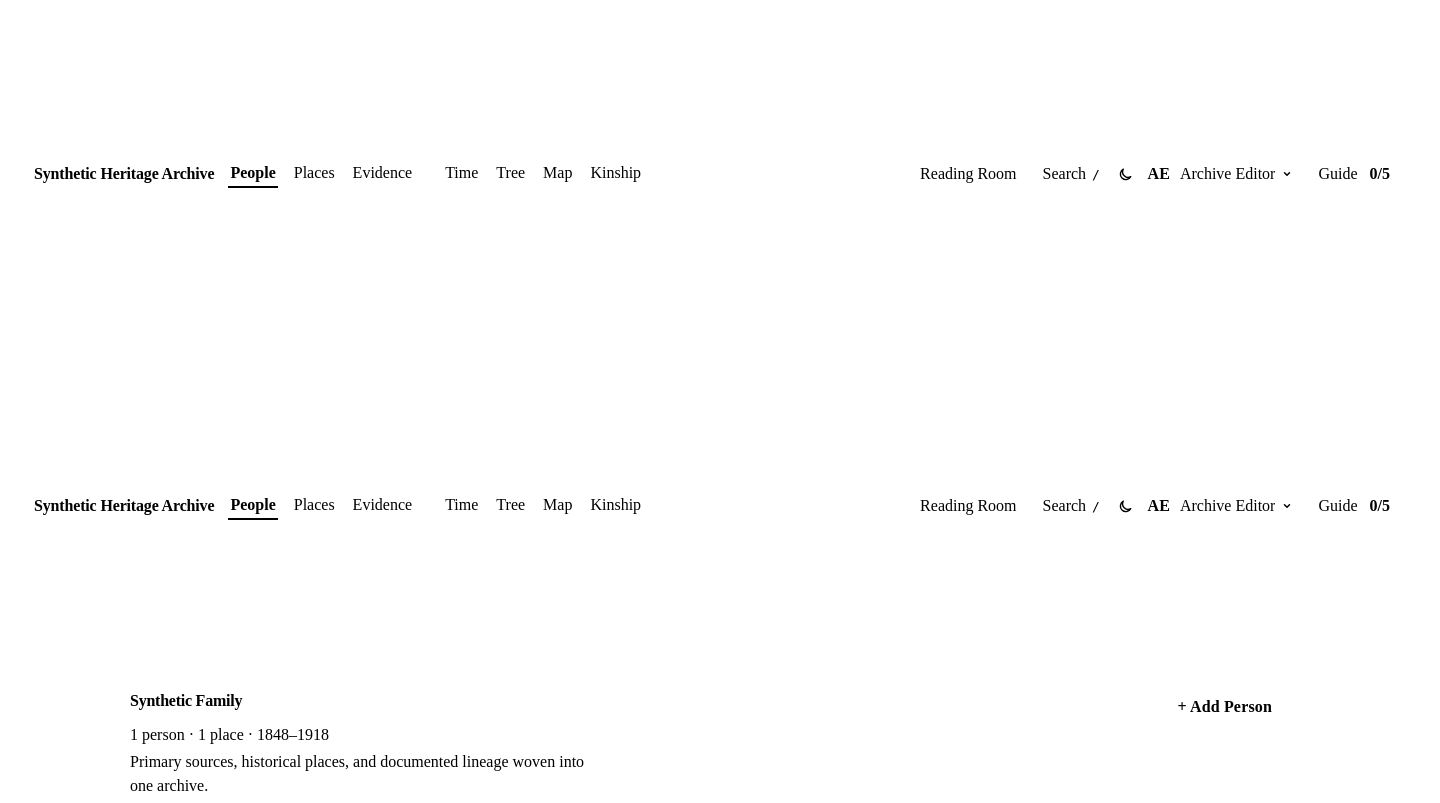
Test: OnboardingChecklistCard, Guide menu, persistence, and contextual empty states › delegates Guide open to a #53 registered tutorial launcher and syncs authenticated user progress via ArchiveDataSource
The image size is (1440, 803).
Later steps or results of the test are not shown.
Expected: the text "Make your first archival contribution" is not shown
Click the 1st button "Guide 0/5": (1357, 174) x1=1308 y1=165 x2=1406 y2=183
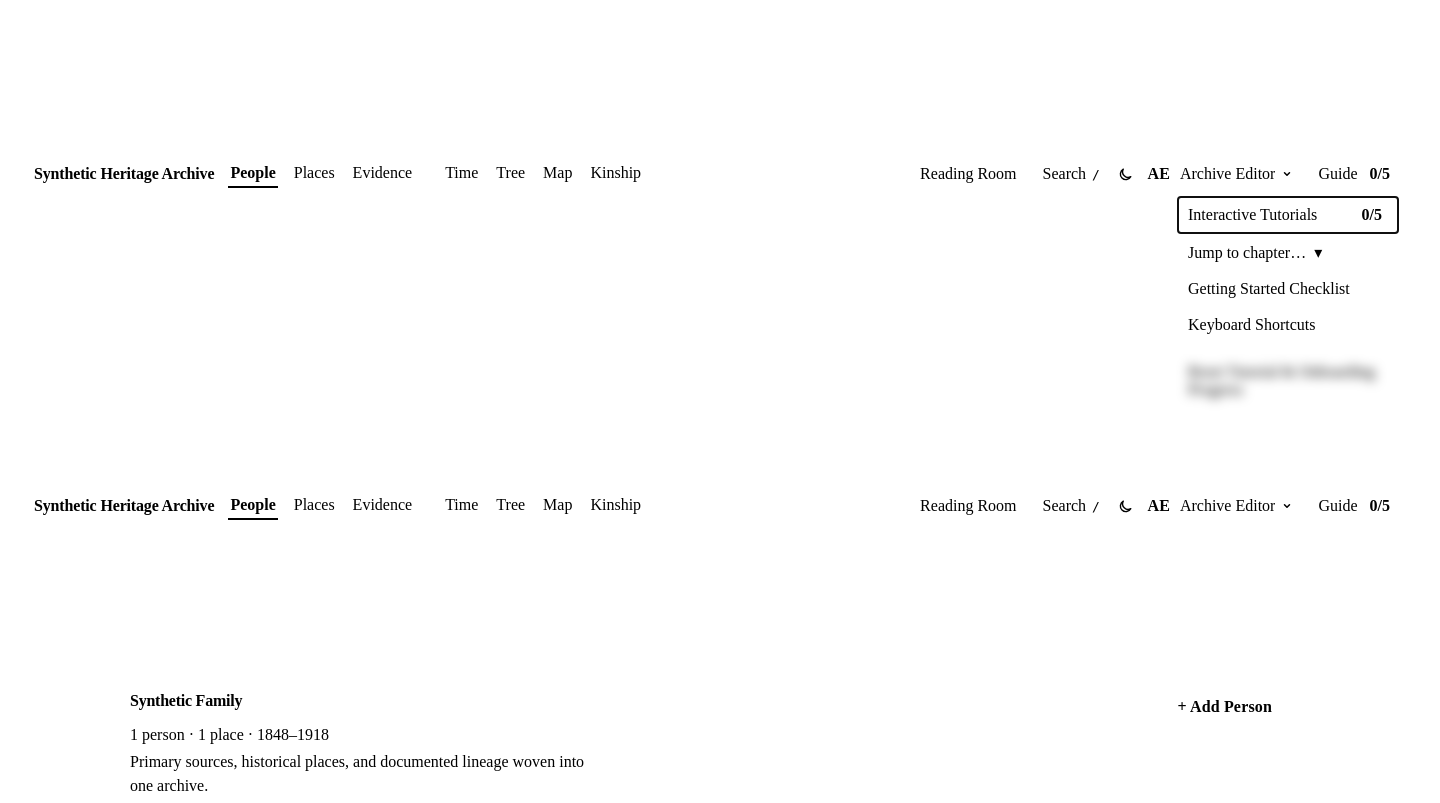
Click the menu item "Getting Started Checklist": (1288, 289) x1=1178 y1=272 x2=1398 y2=306
(page scrolled)
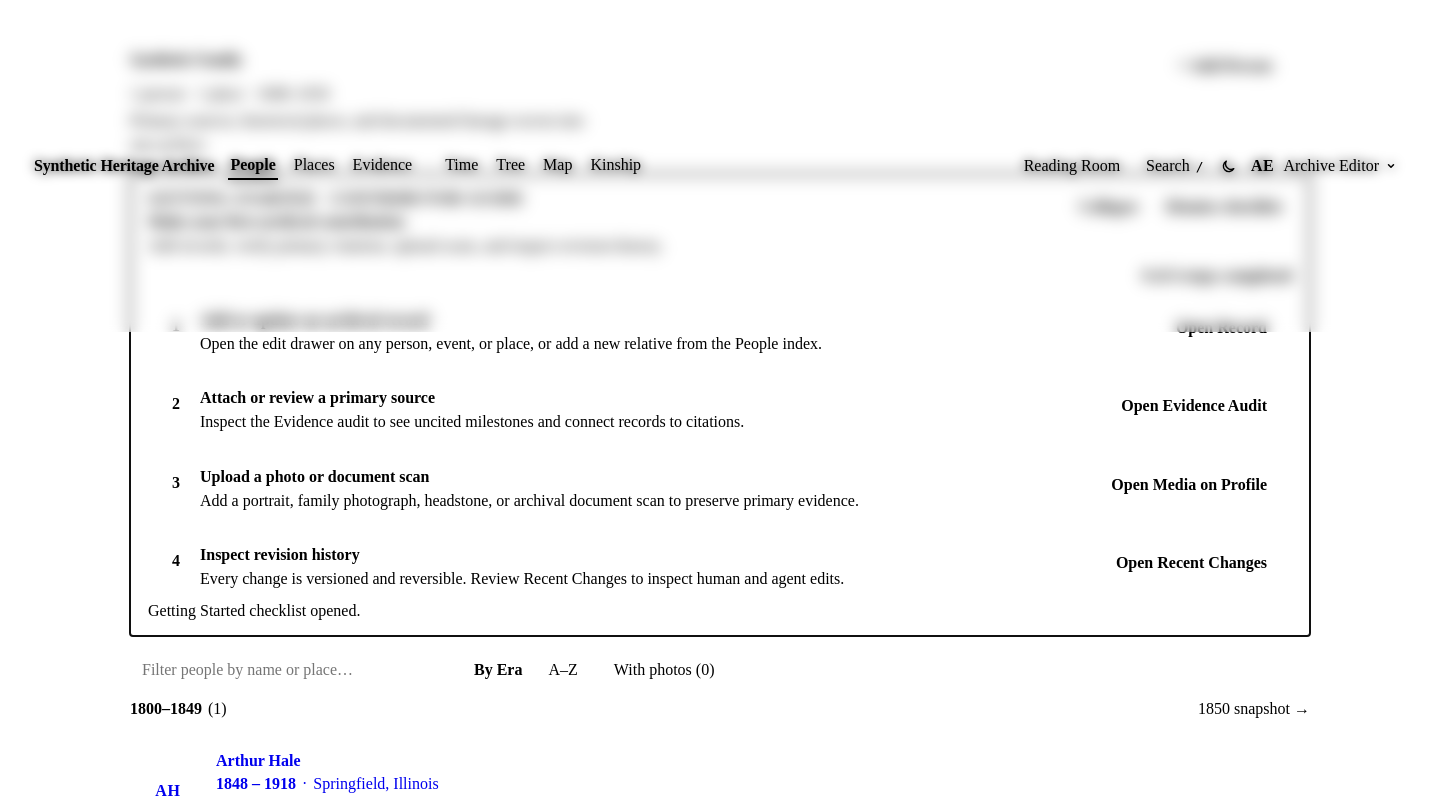
Now the text "Make your first archival contribution" is shown, box x1=148 y1=213 x2=404 y2=230
